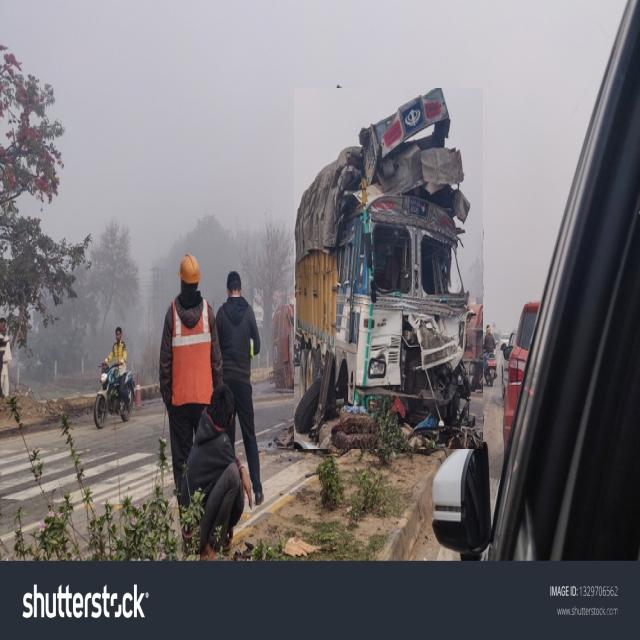accident: (295, 88, 483, 449)
motorcycle: (94, 327, 135, 429)
